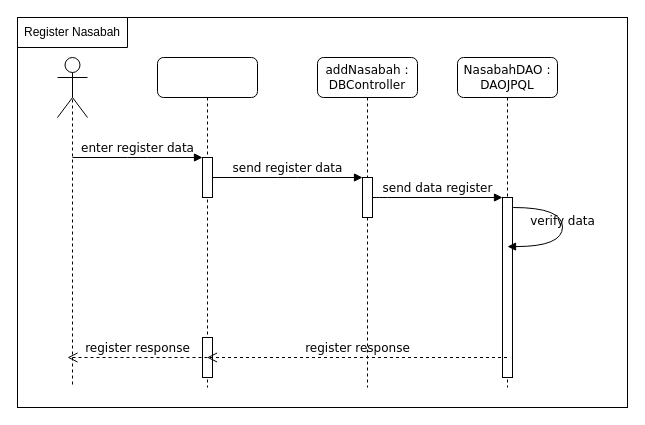
This 645x425 diagram has some shape labels left out. Here are the shapes that lost their labels. From the top down, the centre of each, then its label:
point 72,87: Nasabah
point 207,222: addNasabah : APIController
